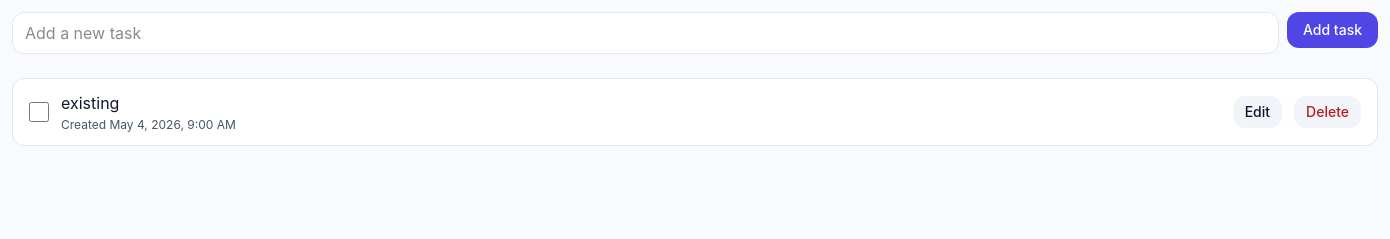
Test: <AddTaskForm /> (in <TaskList />) › prepends a new task optimistically, clears the input, and refocuses it
Expected: the text "existing" is shown, [61, 93, 119, 113]
Type "new task" into the field named "new task title".
click(646, 33); type("new task")  # box [12, 12, 1279, 54]
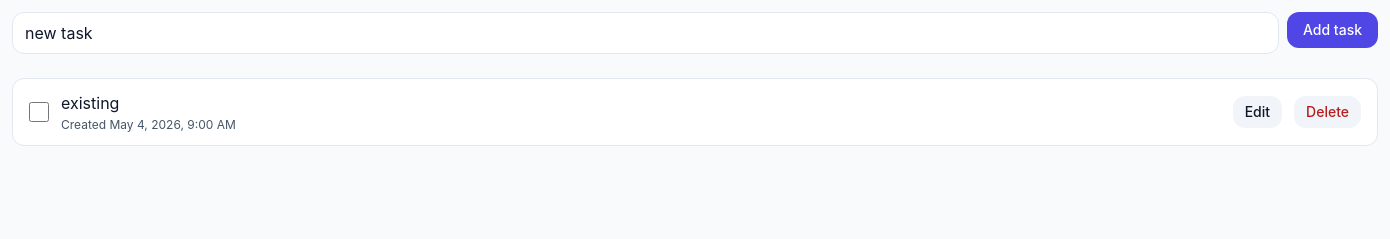
Click the button "Add task".
click(1332, 30)  # box [1287, 12, 1378, 48]
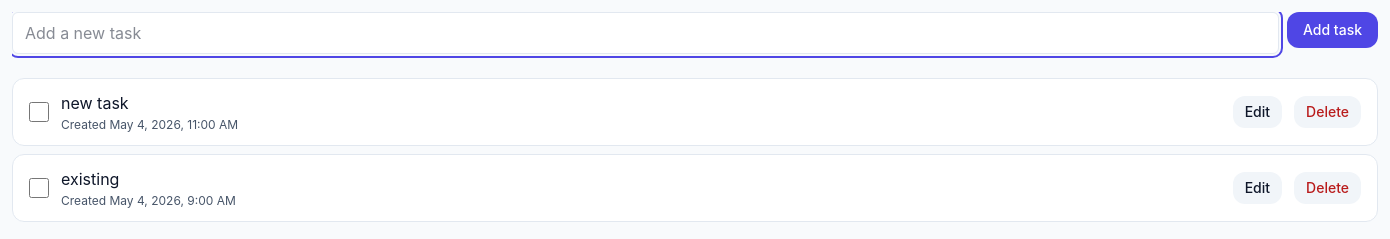
Expected: the list item "existing Created May 4, 2026, 9:00 AM Edit Delete" is shown, [12, 154, 1378, 222]
Expected: the list item "new task Created May 4, 2026, 11:00 AM Edit Delete" is shown, [12, 78, 1378, 146]
Expected: the field named "new task title" is empty, [12, 12, 1279, 54]
